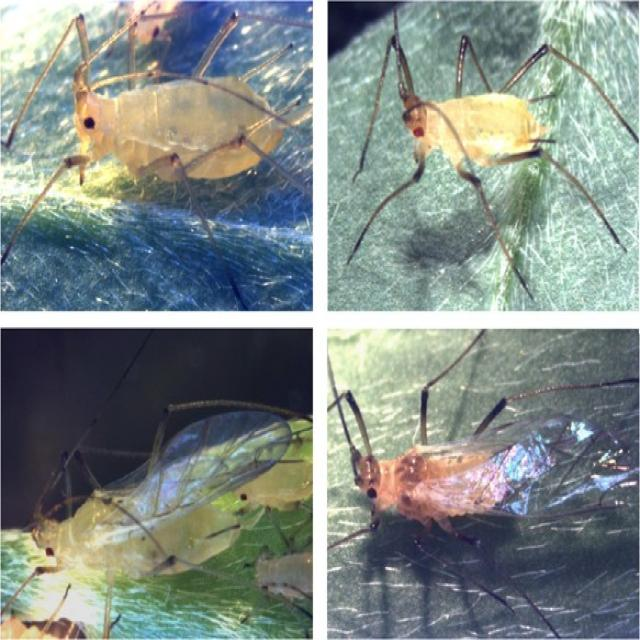Aphid-Grown-: (356, 16, 614, 234), (29, 16, 298, 222)
